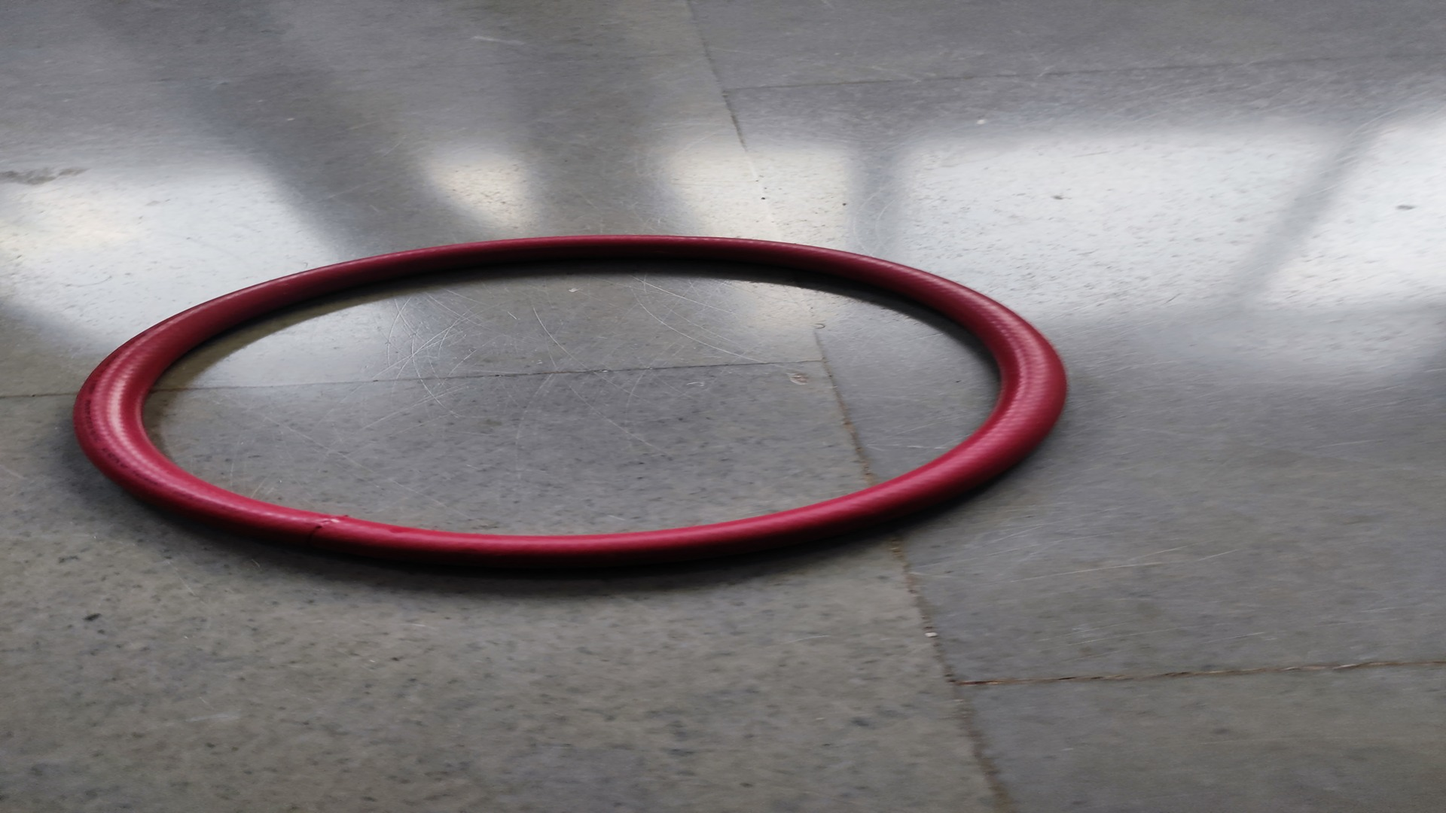Red ring: (72, 233, 1068, 566)
